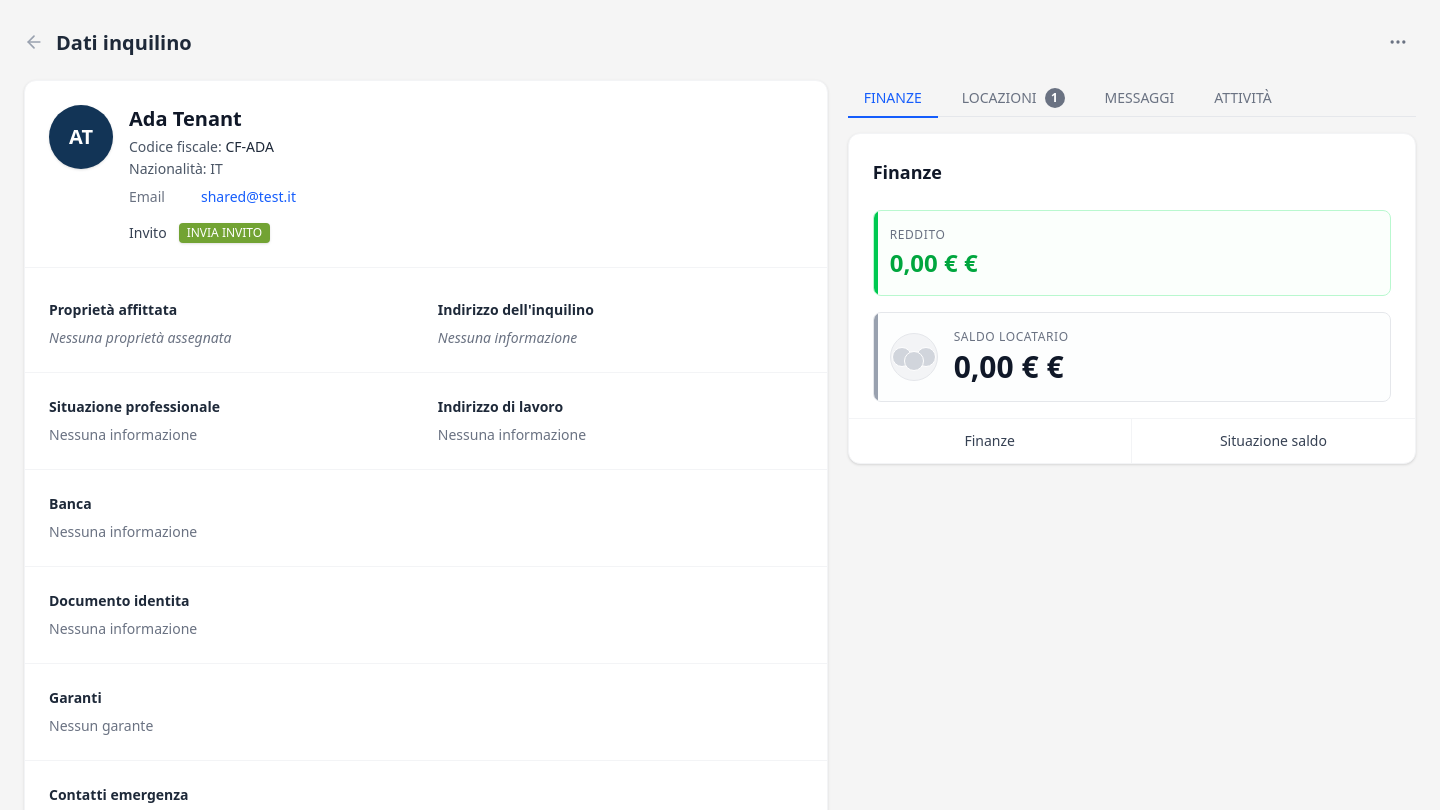
Test: C5.4 lifecycle reale TenantDetailPage › delete lease blocked conserva DB route modal e nessun successo
Click the button named "Azioni" at (1398, 42), box left=1380, top=24, right=1416, bottom=60
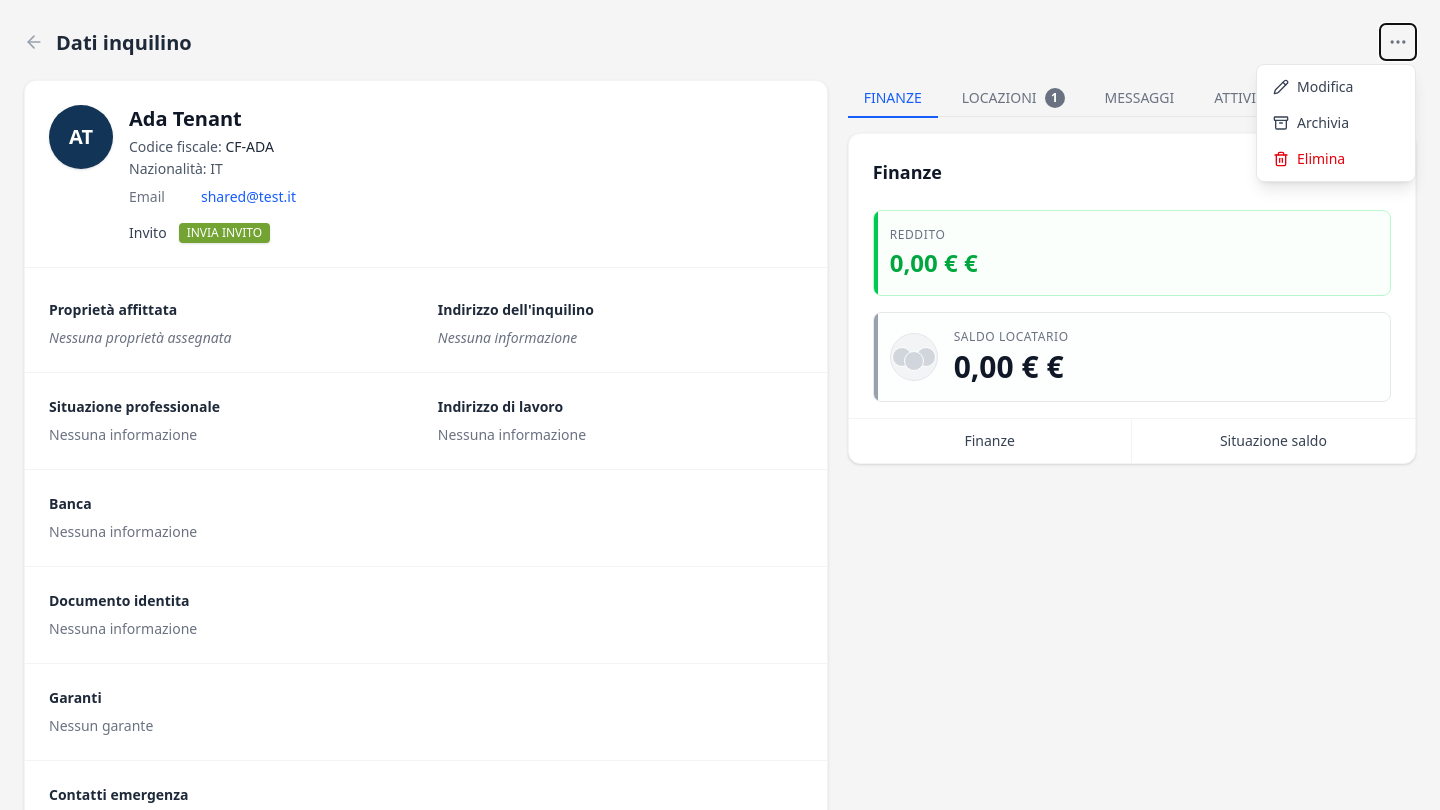
Click the button "Elimina" at (1336, 159), box left=1257, top=141, right=1415, bottom=177
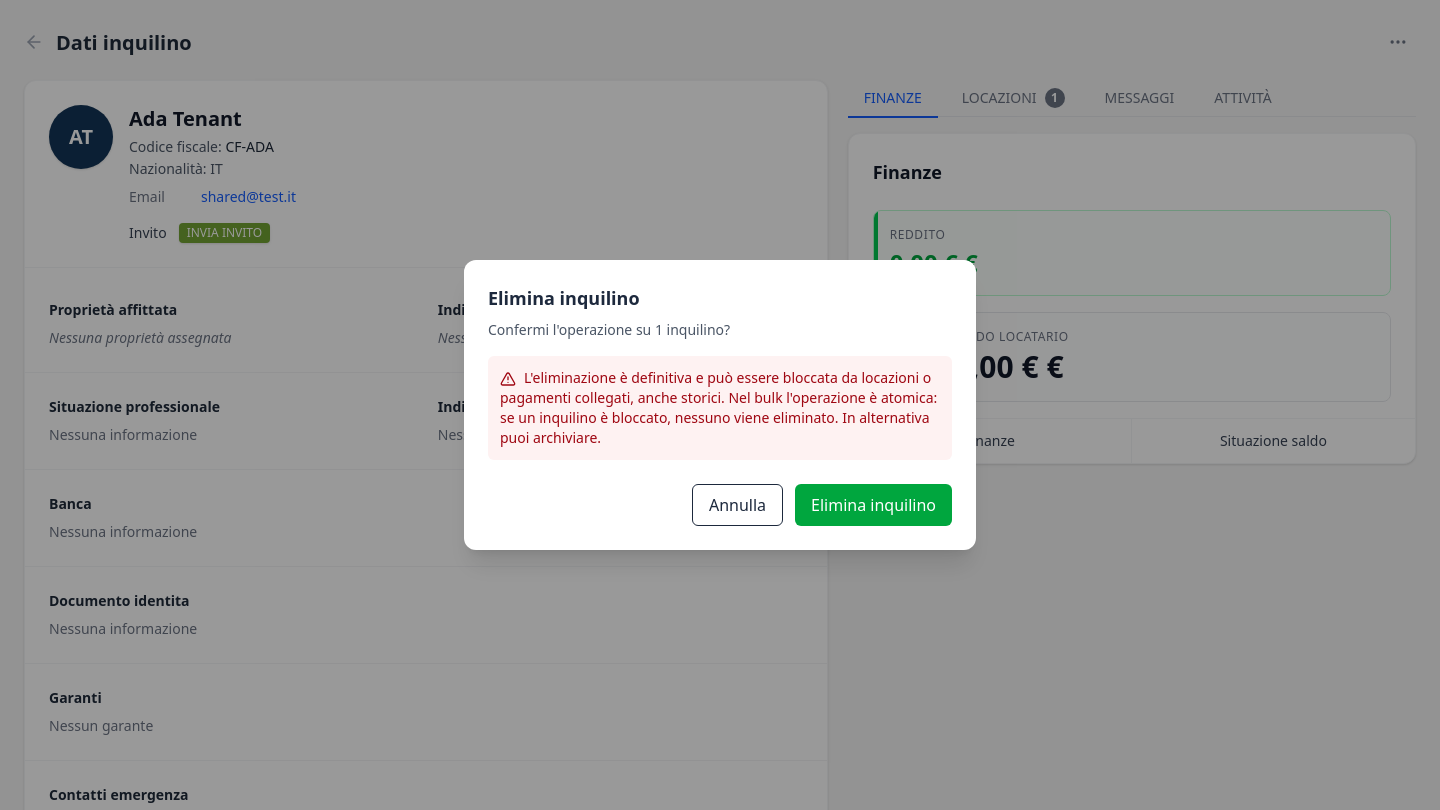
Click the button "Elimina inquilino" at (874, 505), box left=795, top=484, right=952, bottom=526
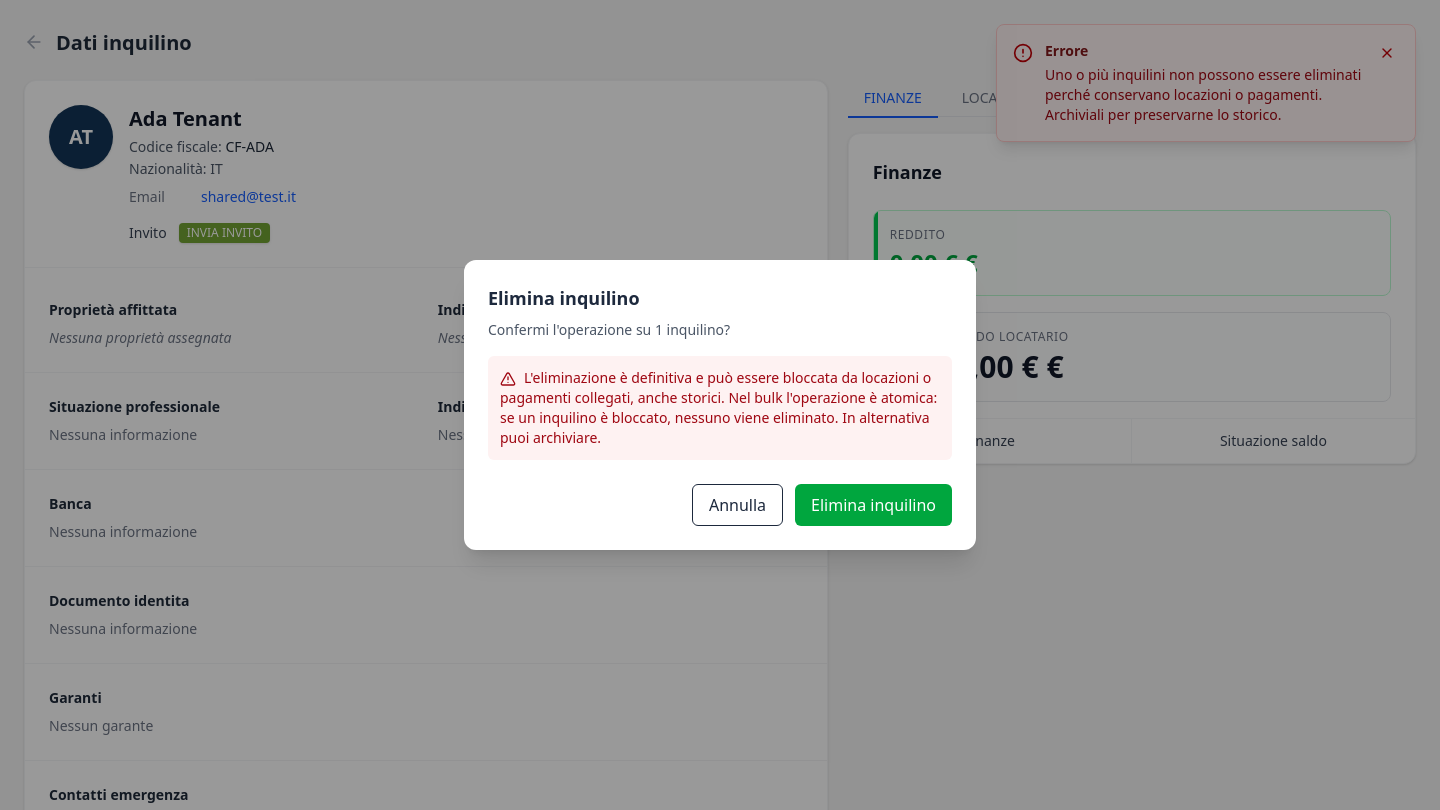
Check: the dialog is shown
Check: the message is shown, box left=996, top=24, right=1416, bottom=142
